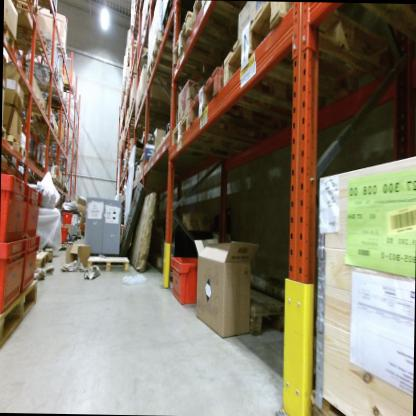pallet: (221, 4, 405, 114), (186, 66, 297, 153), (167, 109, 285, 158), (172, 10, 241, 83), (232, 274, 297, 339), (148, 28, 208, 94), (189, 0, 254, 48), (0, 277, 40, 354), (296, 384, 351, 416), (9, 23, 52, 58), (85, 253, 131, 272), (11, 92, 47, 115), (33, 76, 64, 102), (28, 120, 59, 139), (4, 18, 17, 56), (5, 0, 40, 14), (37, 134, 65, 151), (35, 250, 53, 270), (11, 141, 31, 159), (7, 132, 28, 149), (36, 246, 55, 264), (43, 100, 68, 112), (54, 41, 68, 57), (61, 83, 74, 95), (47, 169, 58, 180), (2, 124, 8, 141), (50, 176, 58, 186), (57, 180, 62, 190), (65, 188, 69, 195)
small_load_carrier: (167, 250, 213, 307), (1, 163, 31, 239), (0, 234, 28, 314), (21, 181, 47, 242), (20, 231, 41, 292), (60, 205, 78, 223), (57, 223, 70, 245)
